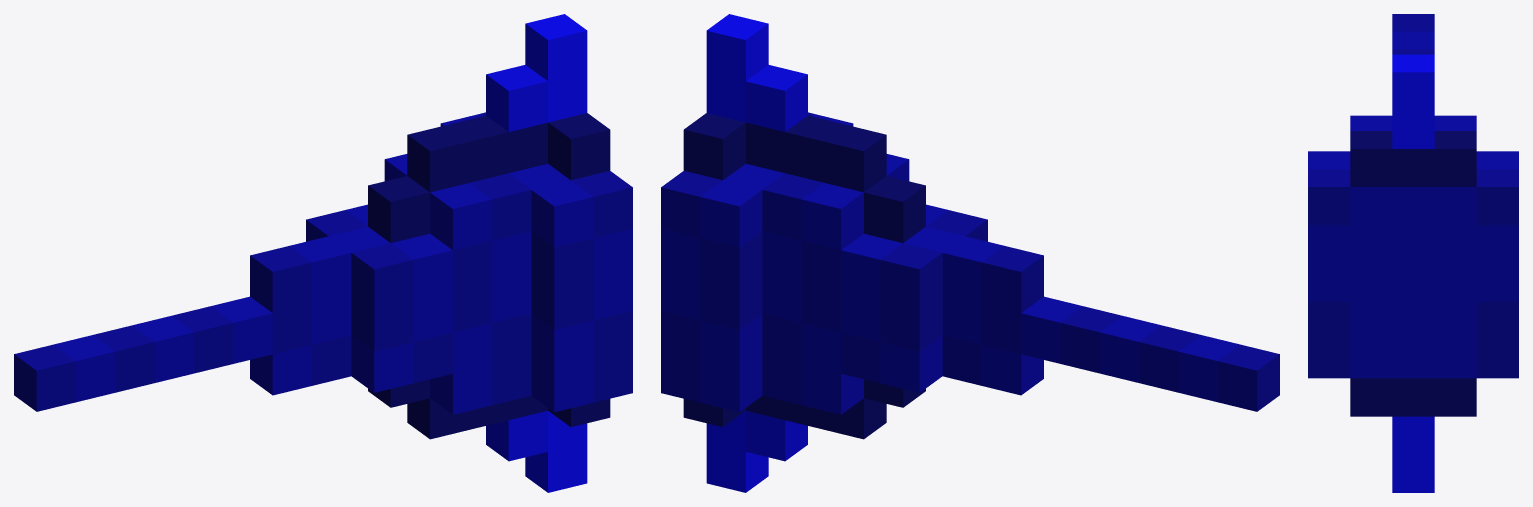
File: Anguila-0.obj
3 renders of one model, left to right at view 1: azimuth 30°, elevation 25°; view 2: azimuth 150°, elevation 25°; view 3: azimuth 270°, elevation 25°, orthographic. The views are drawn at different scales.
Size of the model in its own units: 1.4 by 1.1 by 0.5.
Materials: 1 (1 with a texture image).
